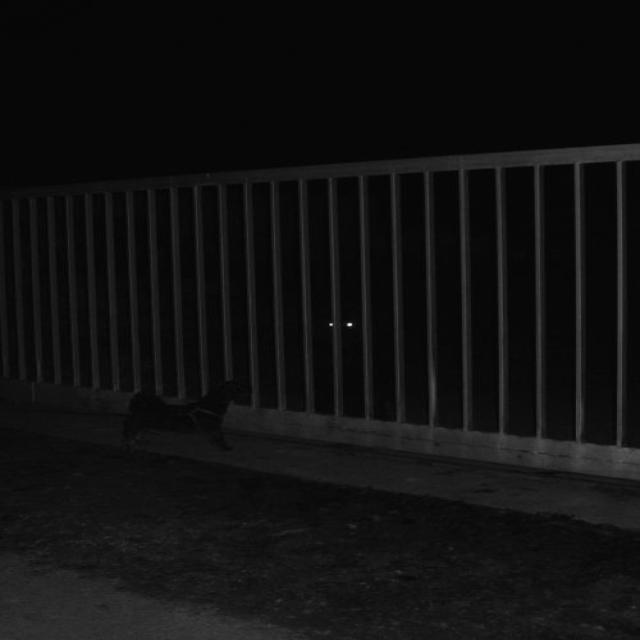Dog: (15, 374, 254, 543)
